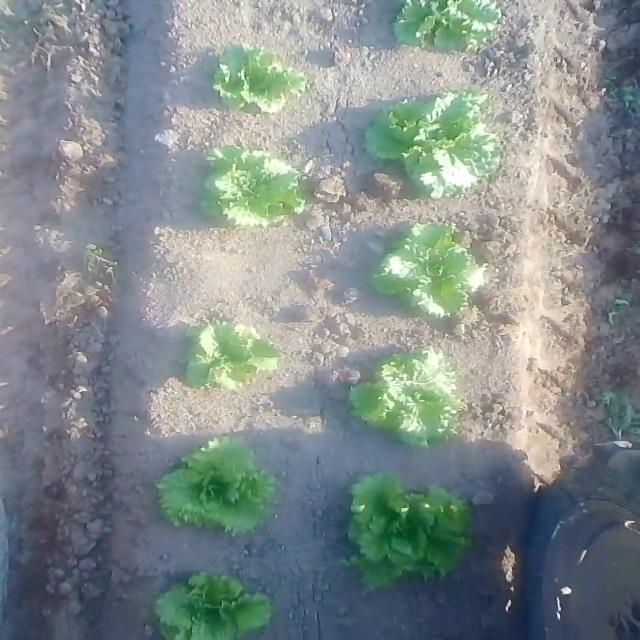Lettuce-Ready-to-Harvest: (346, 472, 472, 592), (349, 348, 462, 451), (158, 436, 275, 534), (374, 223, 472, 322), (154, 573, 275, 640), (184, 322, 279, 395)
